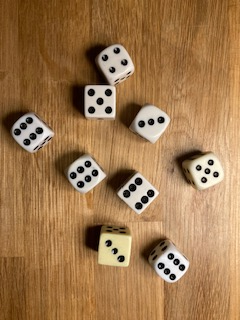five: (180, 149, 226, 189), (81, 83, 119, 120)
four: (93, 42, 135, 87)
six: (145, 236, 191, 285), (114, 170, 161, 214), (9, 110, 55, 154), (62, 152, 107, 193)
three: (127, 102, 171, 145), (96, 222, 133, 269)
